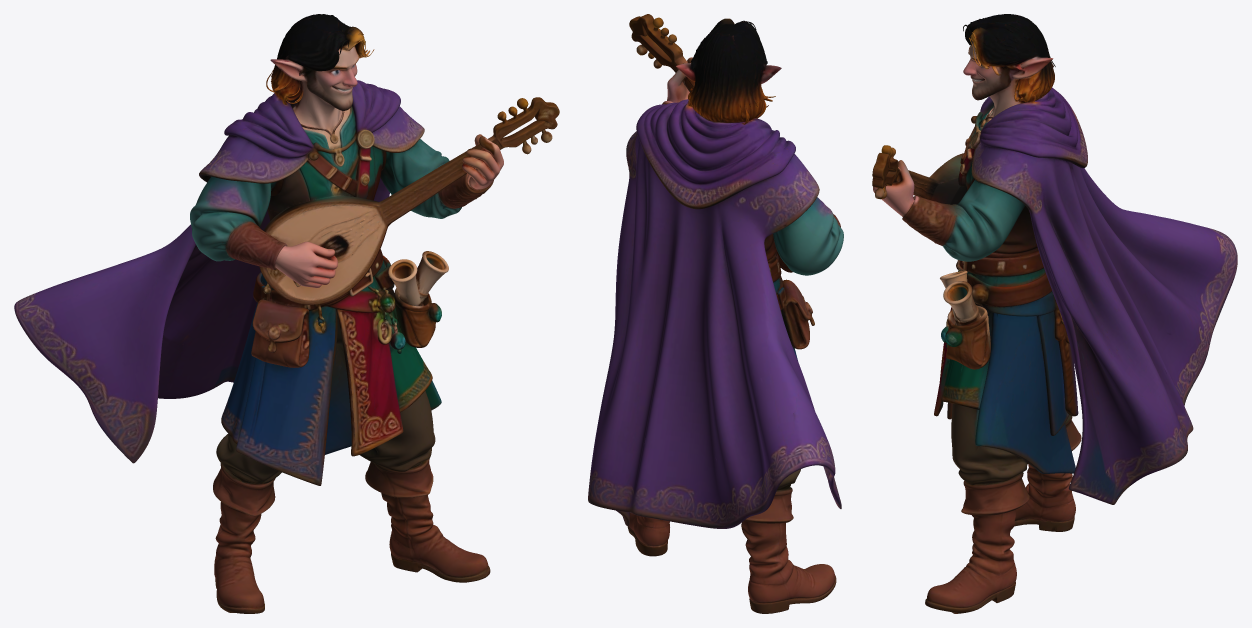
File: half_elf_bard_full_male_01.glb
3 renders of one model, left to right at view 1: azimuth 30°, elevation 25°; view 2: azimuth 150°, elevation 25°; view 3: azimuth 270°, elevation 25°, orthographic. The views are drawn at different scales.
Visible parts, largest first — view 1: material; view 2: material; view 3: material.
Boxes of the visible parts, x1,y1,x2,y2 form: material: (14,14,559,613); material: (588,14,843,613); material: (872,14,1237,613).
Size of the model in its own units: 0.697 by 1.02 by 0.6238.
1 material, 1 textured.
